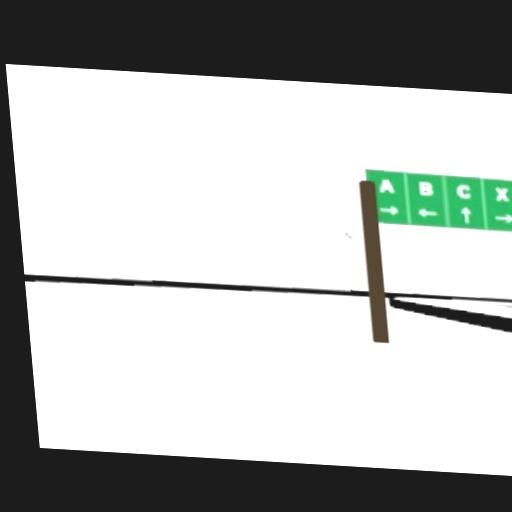A: (377, 178, 394, 192)
B: (416, 180, 433, 194)
C: (455, 183, 472, 199)
Left: (417, 208, 438, 217)
Right: (378, 205, 398, 215), (493, 213, 512, 222)
Straight: (459, 207, 471, 224)
X: (495, 187, 509, 201)
